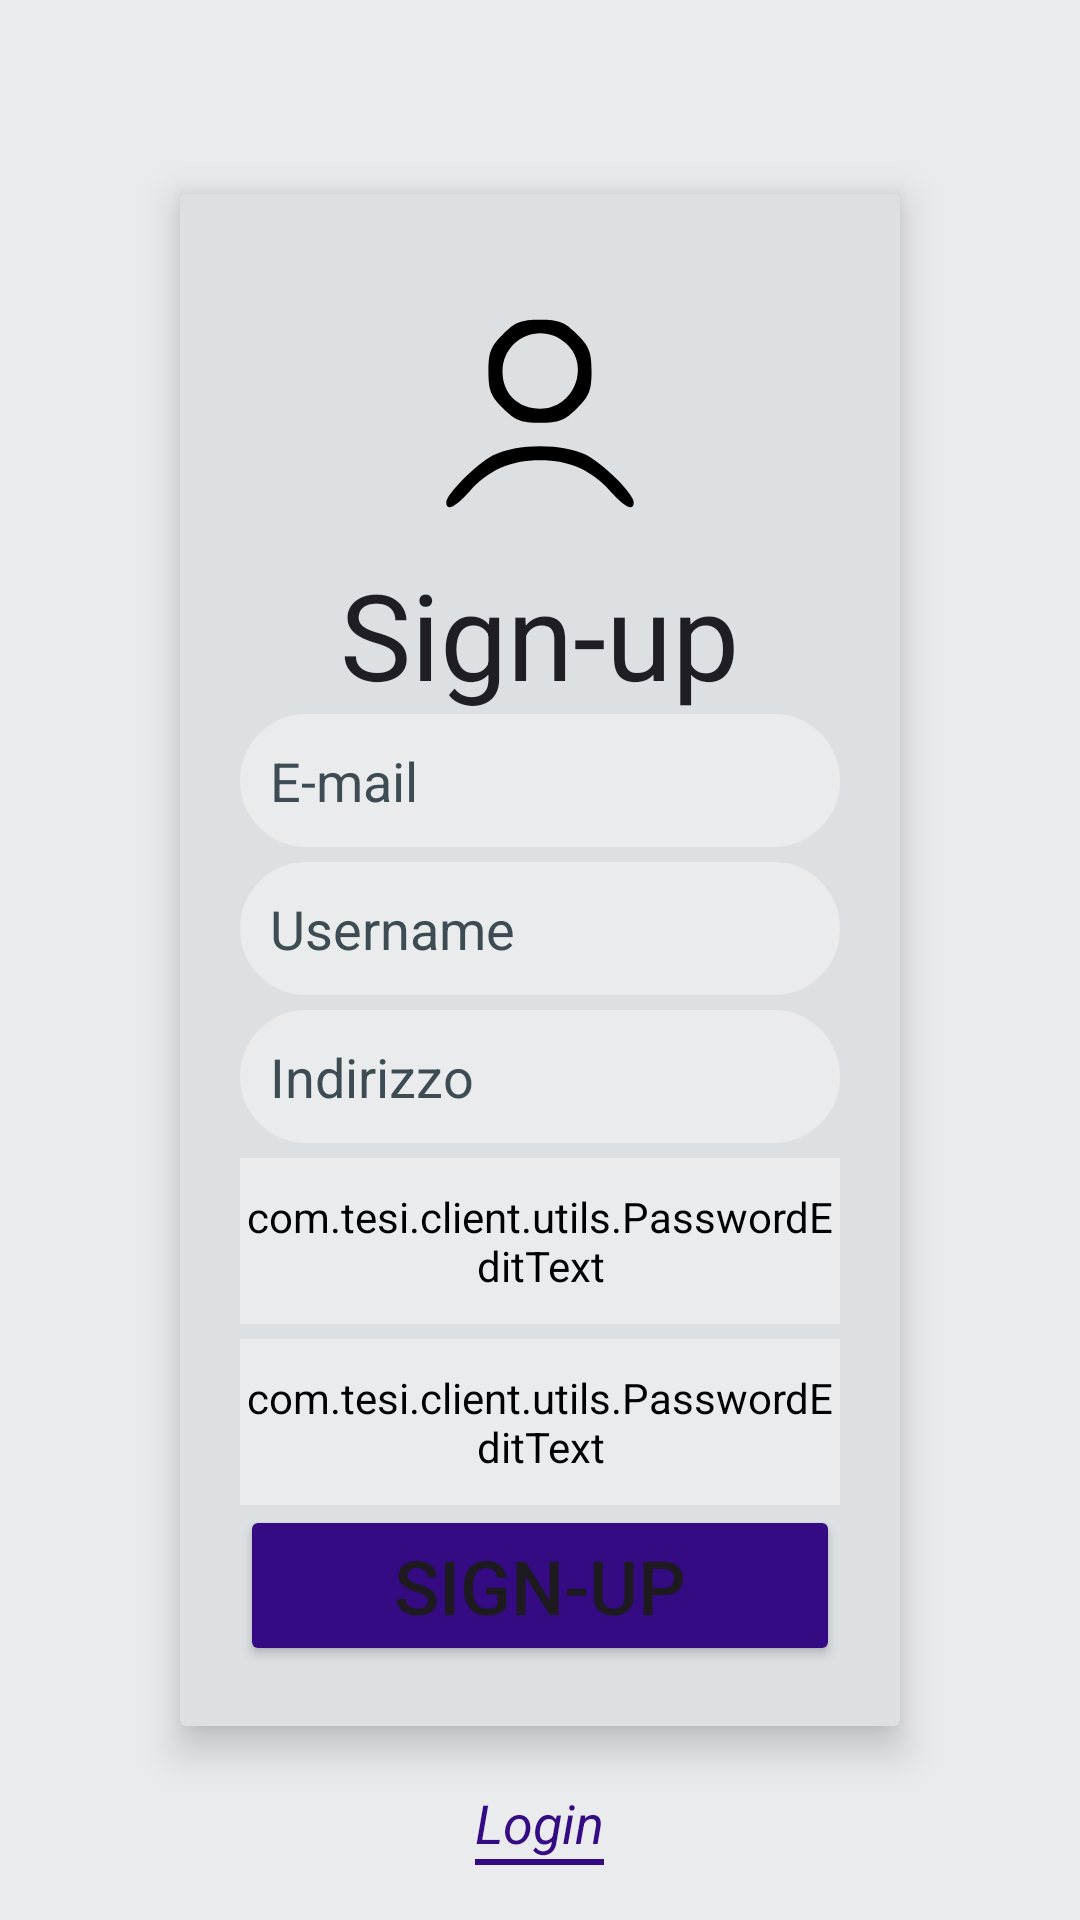

Screen size 1080×1920. Icon name, then its center in pixels as [x,y]:
profilo: [540,413]
